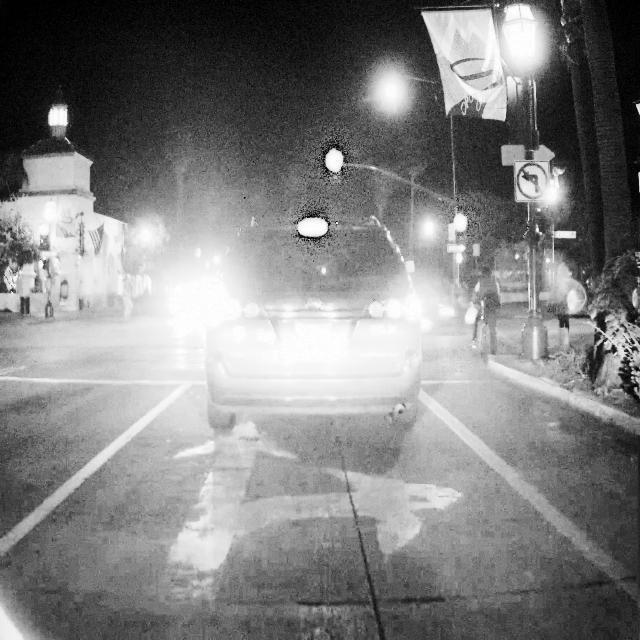Light: (327, 147, 341, 191)
Sign: (513, 160, 551, 203), (502, 143, 557, 167)
Tree: (570, 0, 640, 400)
